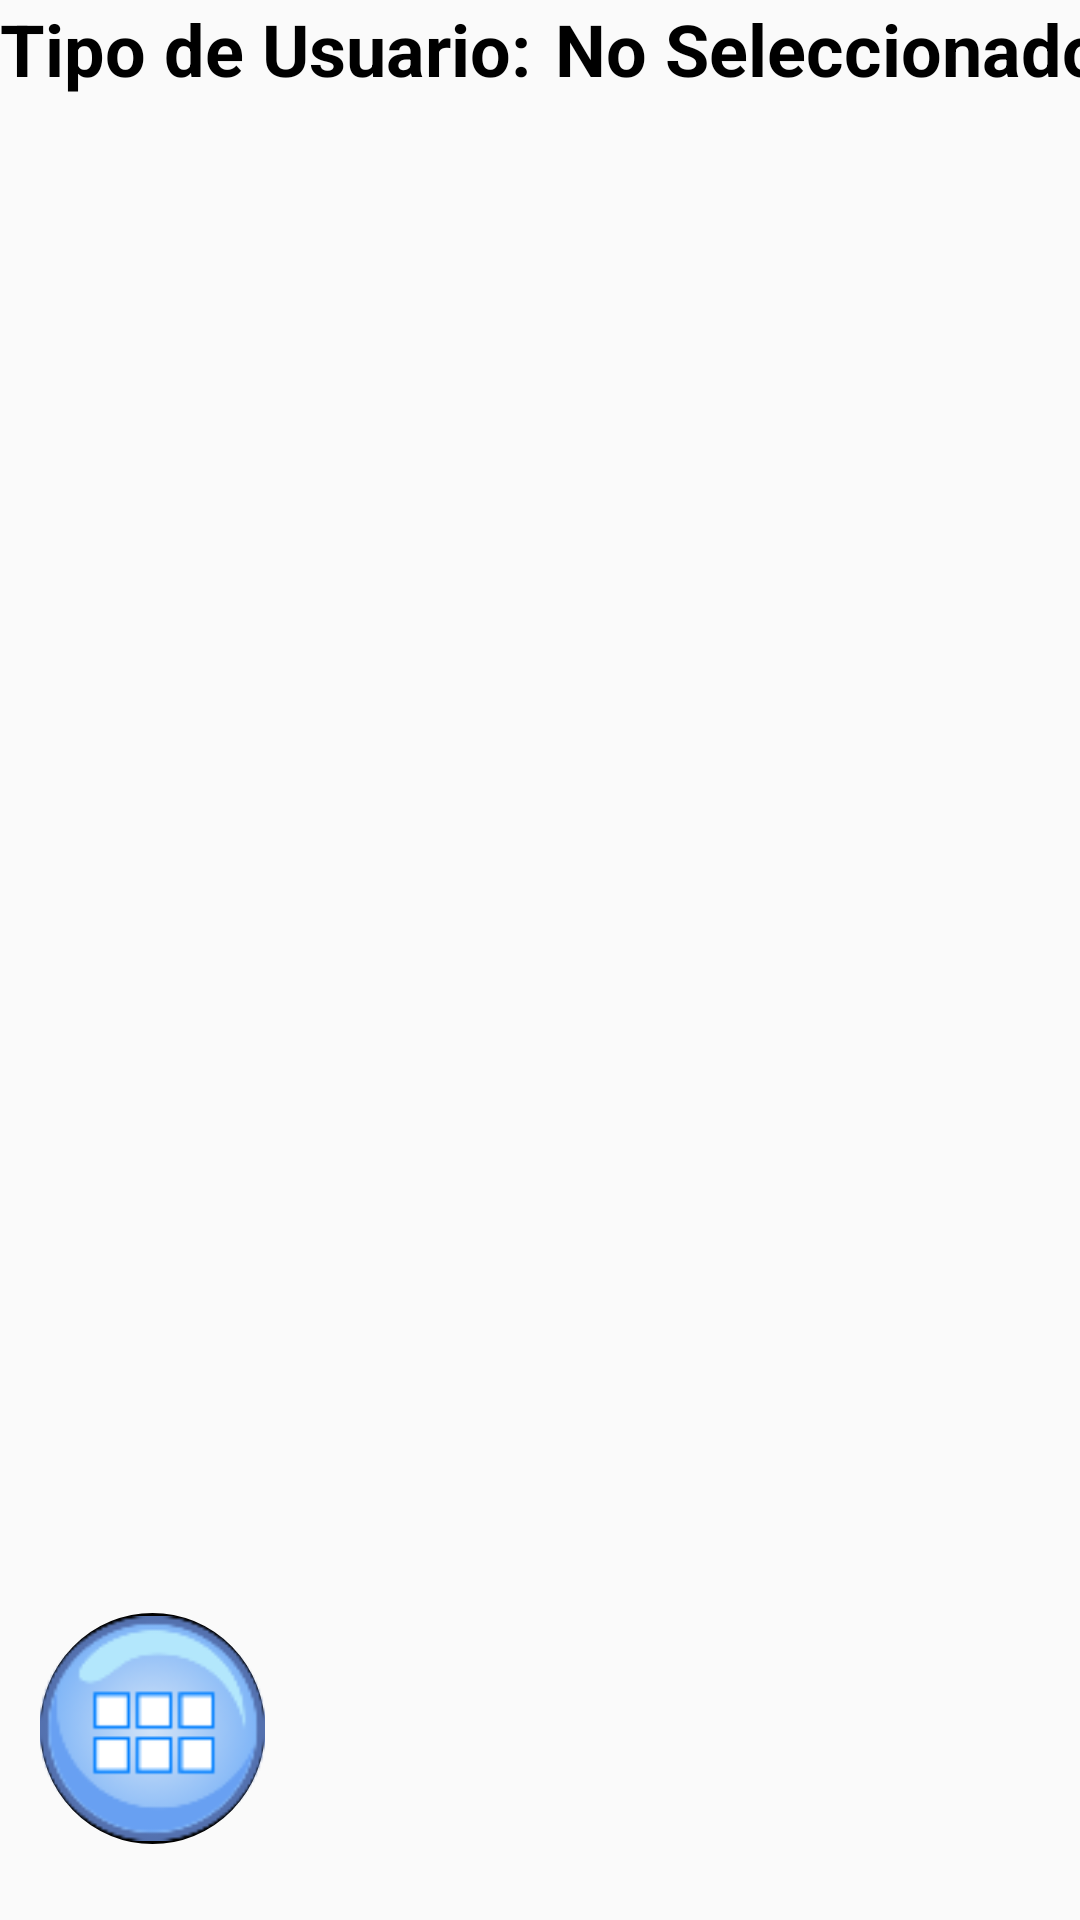

Named icons in this screenshot (1080×1920) and their centers, [x,y]:
Menu: [152,1728]
